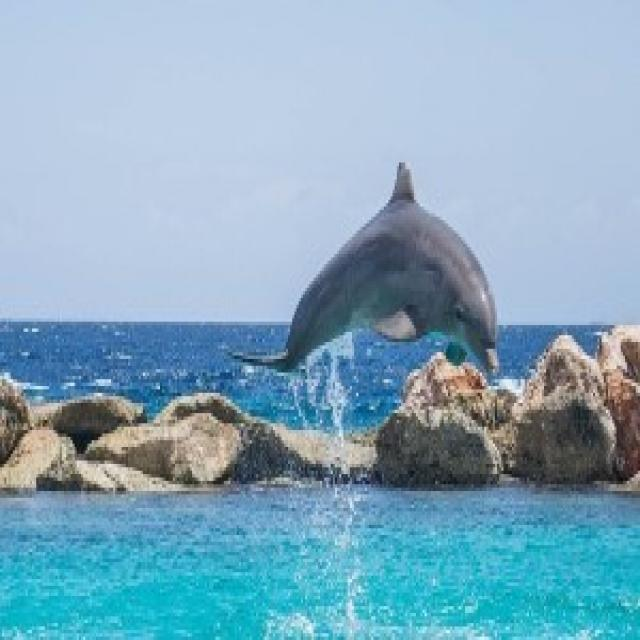Dolphin: (223, 163, 504, 382)
